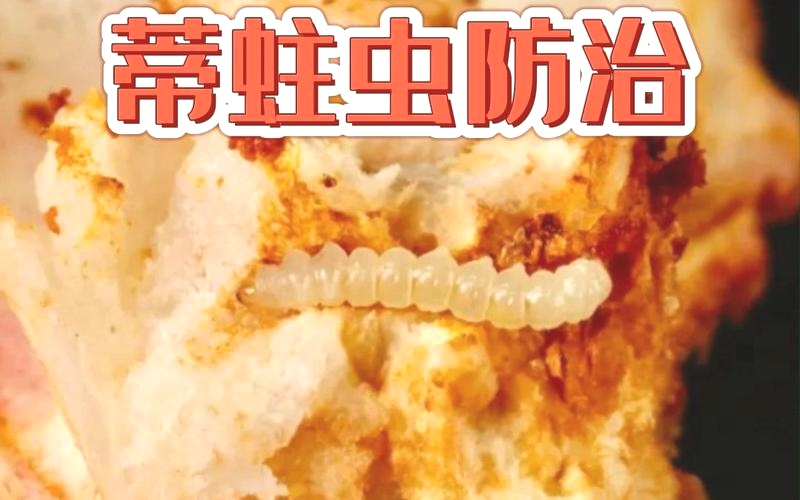Borer: (247, 221, 611, 339)
